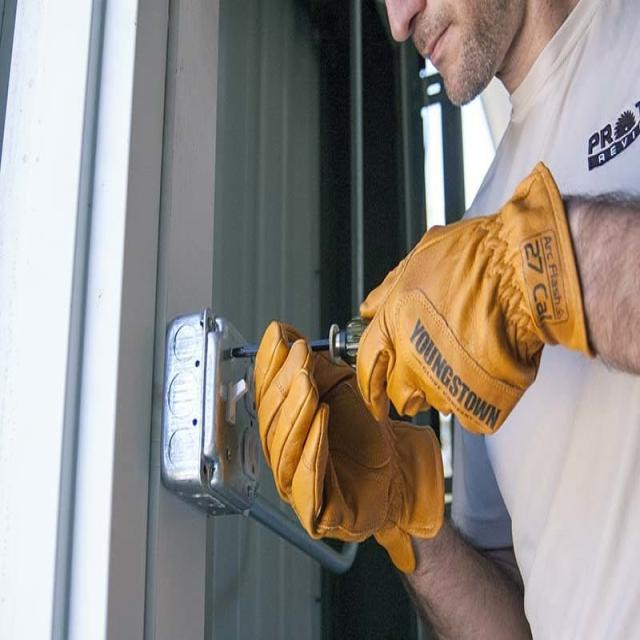gloves: (356, 162, 600, 431), (254, 317, 448, 574)
